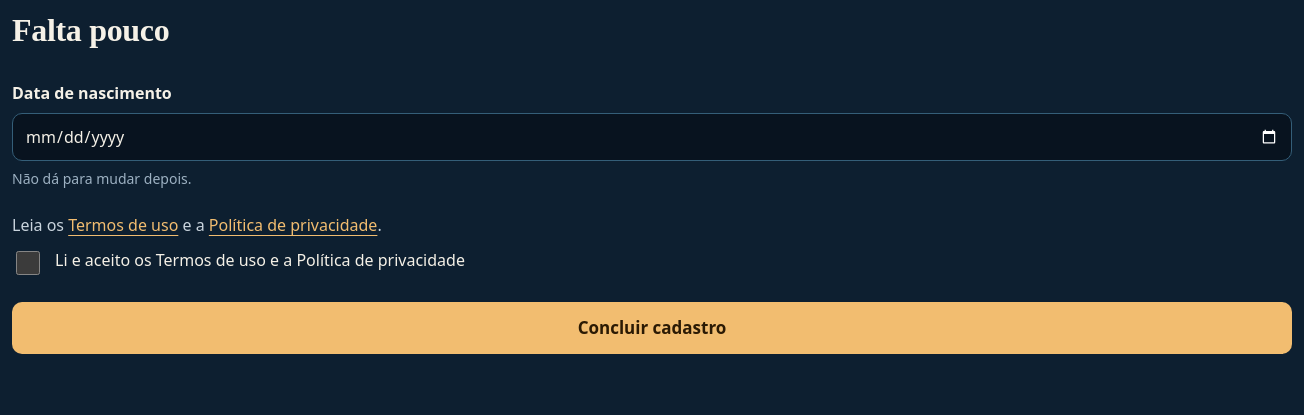
Test: Cadastro › semDataNaoEnvia
Click the checkbox labelled "Li e aceito os Termos de uso e a Política de privacidade" at (28, 263), box [16,251,40,275]
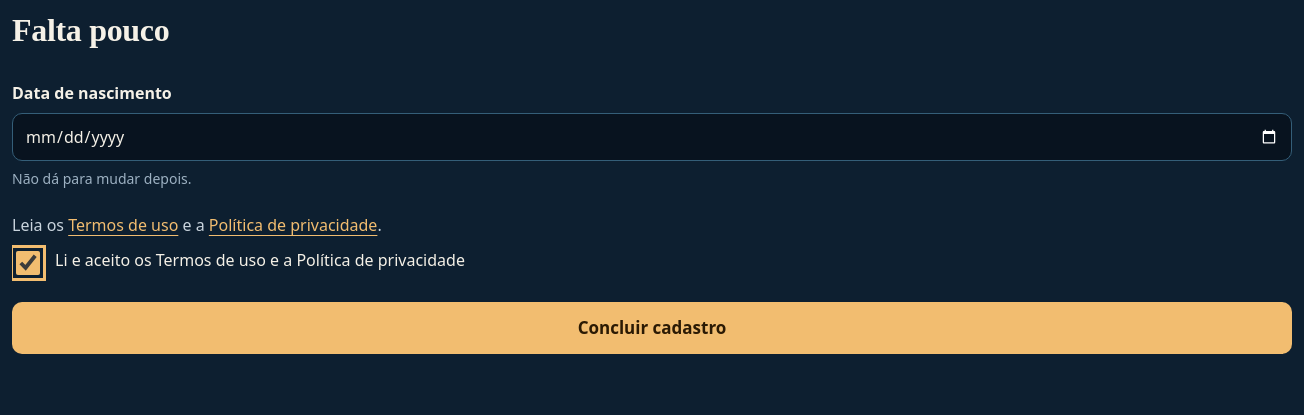
Click the button "Concluir cadastro" at (652, 328), box [12,302,1292,354]
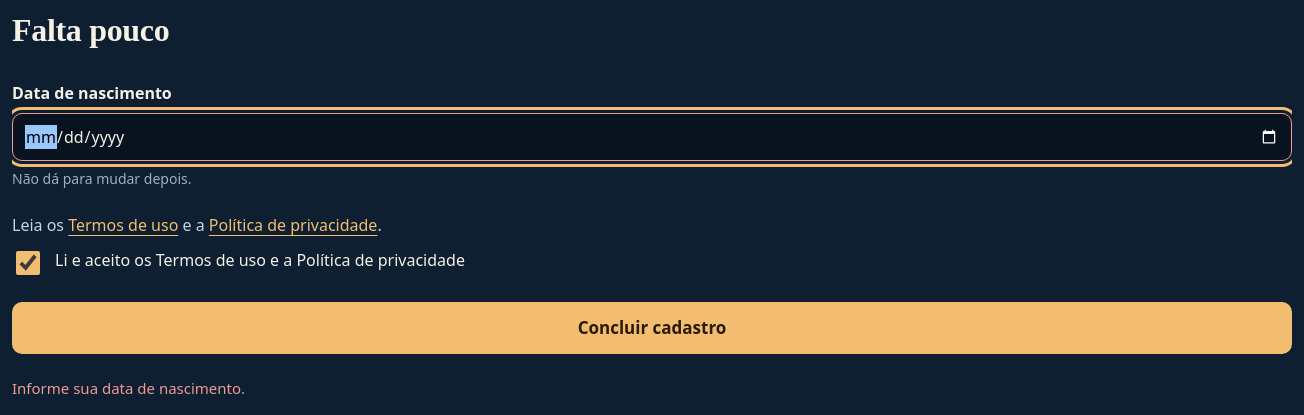
Expected: the message reads "Informe sua data de nascimento.", [12,378,245,398]
